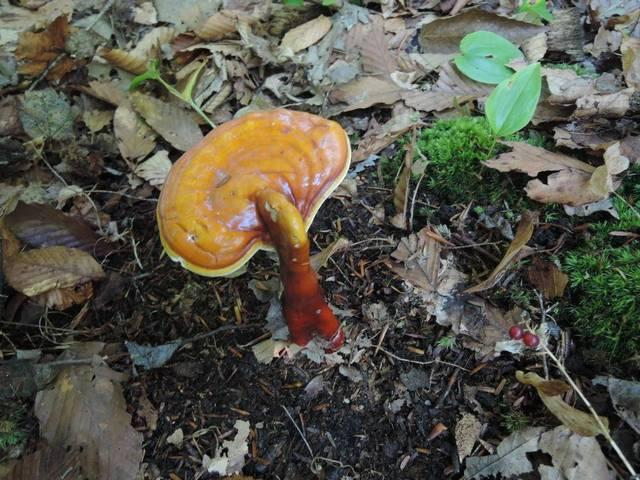poisonous_mushroom: (154, 107, 352, 352)
